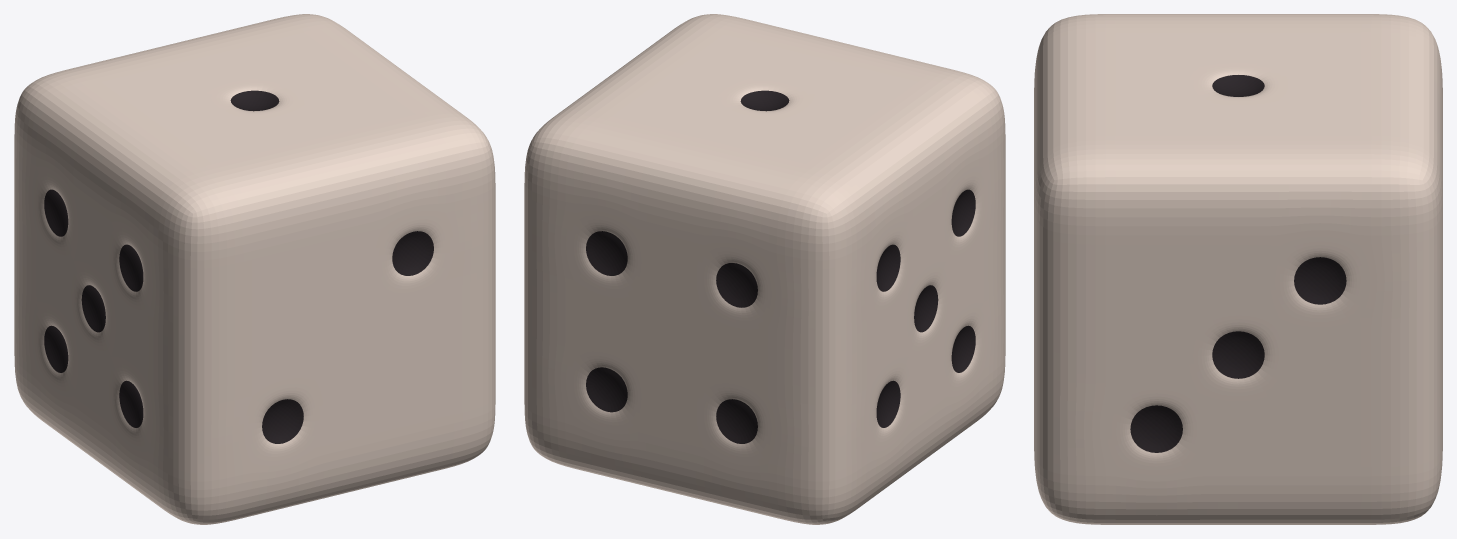
The model's file is Dado.glb.
3 renders of one model, left to right at view 1: azimuth 30°, elevation 25°; view 2: azimuth 150°, elevation 25°; view 3: azimuth 270°, elevation 25°, orthographic. The views are drawn at different scales.
Visible parts, largest first — view 1: Cube; view 2: Cube; view 3: Cube.
Boxes of the visible parts, left/top/right/bottom form: Cube: left=14, top=14, right=495, bottom=524; Cube: left=524, top=14, right=1005, bottom=524; Cube: left=1034, top=14, right=1442, bottom=524.
Size of the model in its own units: 2 by 2 by 2.
